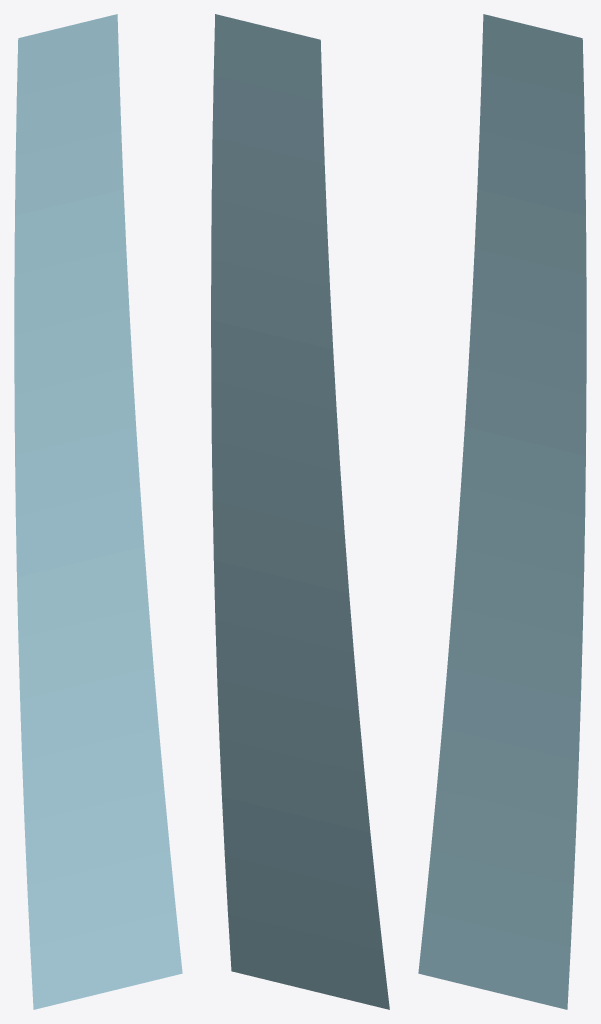
File: waterfall.glb
3 views of the same model, side by side, from view 1: azimuth 30°, elevation 25°; view 2: azimuth 150°, elevation 25°; view 3: azimuth 330°, elevation 25° (orthographic). The views are drawn at different scales.
Visible parts, largest first — view 1: waterfall; view 2: waterfall; view 3: waterfall.
Part boxes in pixels (box(x1,y1,x2,y2)): waterfall: box(14, 14, 182, 1009); waterfall: box(211, 14, 389, 1009); waterfall: box(418, 14, 586, 1009).
Bounding box in the file's own units: 3 × 18 × 1.4.
